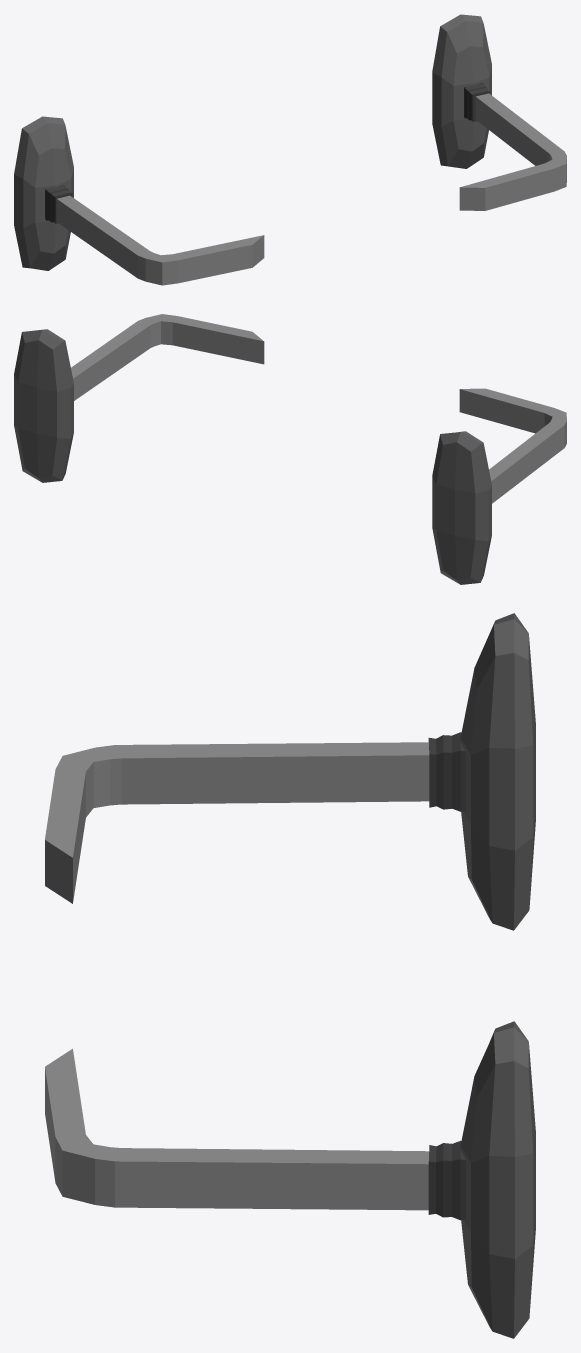
File: Chair_Body_Ac.glb
3 views of the same model, one above another, from view 1: azimuth 30°, elevation 25°; view 2: azimuth 150°, elevation 25°; view 3: azimuth 270°, elevation 25° (orthographic). The views are drawn at different scales.
Visible parts, largest first — view 1: Chair Body Ac; view 2: Chair Body Ac; view 3: Chair Body Ac.
Part boxes in pixels (left/top/right/bottom): Chair Body Ac: left=14, top=14, right=566, bottom=285; Chair Body Ac: left=14, top=314, right=566, bottom=584; Chair Body Ac: left=45, top=613, right=535, bottom=1338.
Size of the model in its own units: 0.6715 by 0.207 by 0.3009.
Materials: 1 (1 with a texture image).
